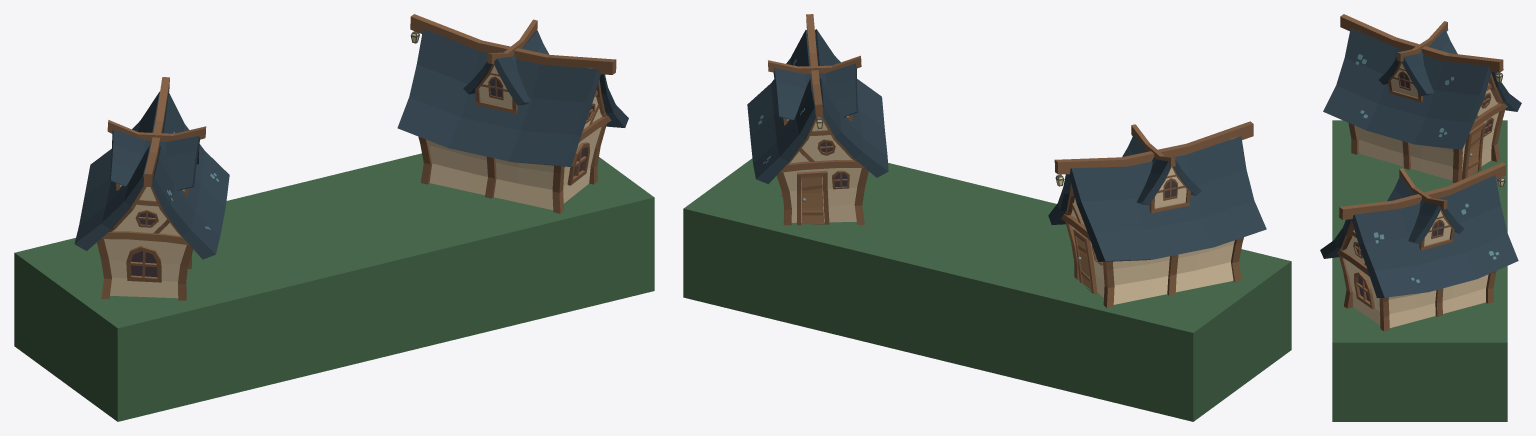
Rendered from BigHouse.glb.
3 views of the same model, side by side, from view 1: azimuth 30°, elevation 25°; view 2: azimuth 150°, elevation 25°; view 3: azimuth 270°, elevation 25° (orthographic). The views are drawn at different scales.
Visible parts, largest first — view 1: tile, RightRoof, RightRoof.001, House, House.017, tiny roof.001, Cube, tiny roof, Cube.049, Cube.007, Cube.050, Cube.052 (+2 smaller); view 2: tile, RightRoof.001, RightRoof, House.017, House, tiny roof, Cube.049, tiny roof.001, Cube.056, door, Cube, Cube.001 (+3 smaller); view 3: tile, RightRoof, RightRoof.001, House, House.017, Cube, Cube.049, tiny roof.001, tiny roof, Cube.008, Cube.057, House.001 (+12 smaller).
Part boxes in pixels (x1,y1,x2,y2): tile: [14, 153, 654, 421]; RightRoof: [397, 28, 628, 166]; RightRoof.001: [74, 91, 229, 259]; House: [428, 96, 601, 210]; House.017: [104, 187, 187, 298]; tiny roof.001: [110, 129, 199, 190]; Cube: [410, 14, 616, 74]; tiny roof: [463, 30, 549, 105]; Cube.049: [143, 77, 169, 186]; Cube.007: [418, 136, 564, 213]; Cube.050: [107, 120, 206, 141]; Cube.052: [101, 231, 189, 245]; tile: [683, 158, 1291, 421]; RightRoof.001: [1048, 136, 1266, 261]; RightRoof: [747, 29, 888, 184]; House.017: [1071, 198, 1234, 304]; House: [783, 117, 861, 222]; tiny roof: [773, 63, 857, 120]; Cube.049: [1054, 121, 1253, 174]; tiny roof.001: [1122, 134, 1201, 205]; Cube.056: [1103, 237, 1243, 307]; door: [801, 177, 824, 224]; Cube: [806, 14, 823, 116]; Cube.001: [768, 55, 861, 74]; tile: [1332, 120, 1507, 421]; RightRoof: [1320, 175, 1518, 297]; RightRoof.001: [1323, 28, 1521, 149]; House: [1344, 229, 1488, 327]; House.017: [1356, 83, 1498, 180]; Cube: [1339, 162, 1506, 219]; Cube.049: [1340, 14, 1503, 72]; tiny roof.001: [1379, 29, 1457, 96]; tiny roof: [1387, 176, 1463, 244]; Cube.008: [1379, 271, 1496, 331]; Cube.057: [1348, 123, 1462, 182]; House.001: [1462, 122, 1485, 179].
Bounding box in the file's own units: 6.16 × 2.54 × 2.3.
